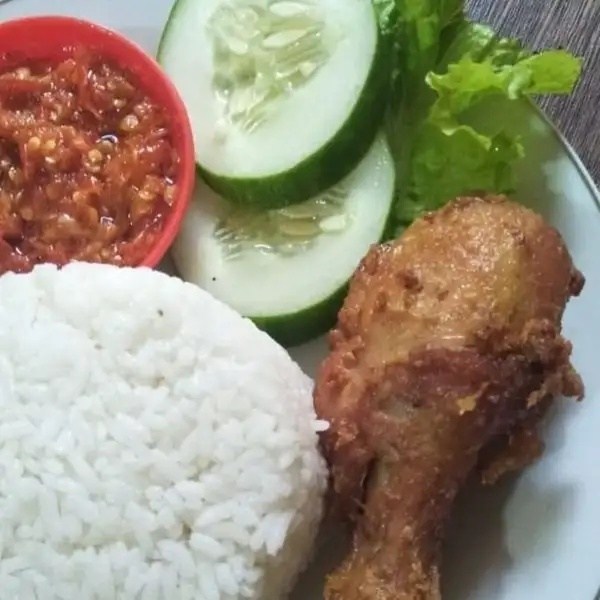ayam_goreng: (312, 192, 578, 600)
